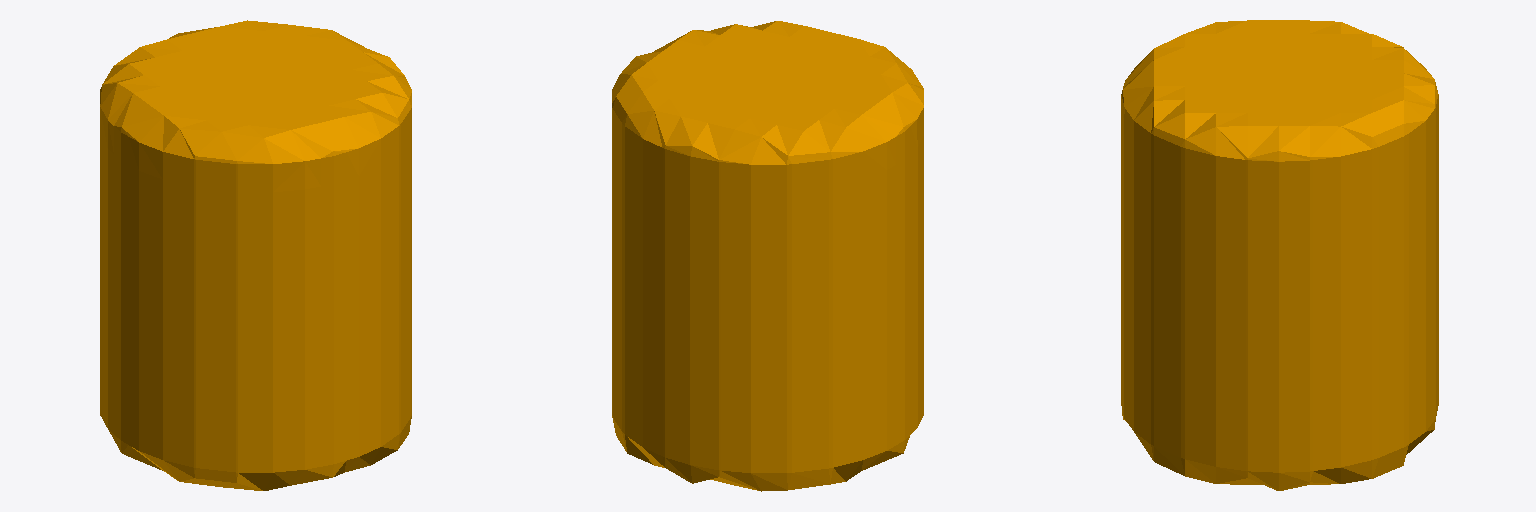
robot.urdf — cylinder_../../meshes/cylinders/cylinder_66.stl:
<?xml version="1.0" encoding="utf-8"?>  <robot name="cylinder_../../meshes/cylinders/cylinder_66.stl">   <link name="cylinder_../../meshes/cylinders/cylinder_66.stl">     <visual>       <geometry>         <mesh filename="../meshes/cylinders/cylinder_66.stl" scale="1 1 1"/>       </geometry>     </visual>     <collision>       <geometry>         <mesh filename="../meshes/cylinders/cylinder_66.stl" scale="1 1 1"/>       </geometry>     </collision>     <inertial>        <origin         xyz="0 0 0"         rpy="0 0 0" />       <mass value="0.12563753228990102"/>       <origin rpy="0 0 0" xyz="0 0 0"/>       <inertia ixx="6.075157517174799e-05" ixy="-1.31503288849525e-08" ixz="2.264214705014233e-08" iyy="6.075060050895566e-05" iyz="1.8454852217973048e-08" izz="3.971937629138828e-05"/>     </inertial>   </link>  </robot>

--- What the picture shows (computed from the rendered views, not written in the file) ---
Views: 3 orthographic renders of the robot side by side, from view 1: azimuth 30°, elevation 25°; view 2: azimuth 150°, elevation 25°; view 3: azimuth 270°, elevation 25°.
Robot: cylinder_../../meshes/cylinders/cylinder_66.stl — 1 links, 0 joints (none); root link cylinder_../../meshes/cylinders/cylinder_66.stl; default pose: every joint at zero.
Links seen in each view (by area): view 1: cylinder_../../meshes/cylinders/cylinder_66.stl; view 2: cylinder_../../meshes/cylinders/cylinder_66.stl; view 3: cylinder_../../meshes/cylinders/cylinder_66.stl.
Link boxes in pixels (x1=…): cylinder_../../meshes/cylinders/cylinder_66.stl: x1=100, y1=20, x2=411, y2=490; cylinder_../../meshes/cylinders/cylinder_66.stl: x1=612, y1=21, x2=923, y2=491; cylinder_../../meshes/cylinders/cylinder_66.stl: x1=1121, y1=20, x2=1438, y2=490.
Bounding box of the posed robot: 0.0508 × 0.0508 × 0.0635 m (x, y, z).
Meshes: 1 distinct files referenced, 1 mesh visuals loaded (1 binary STL).